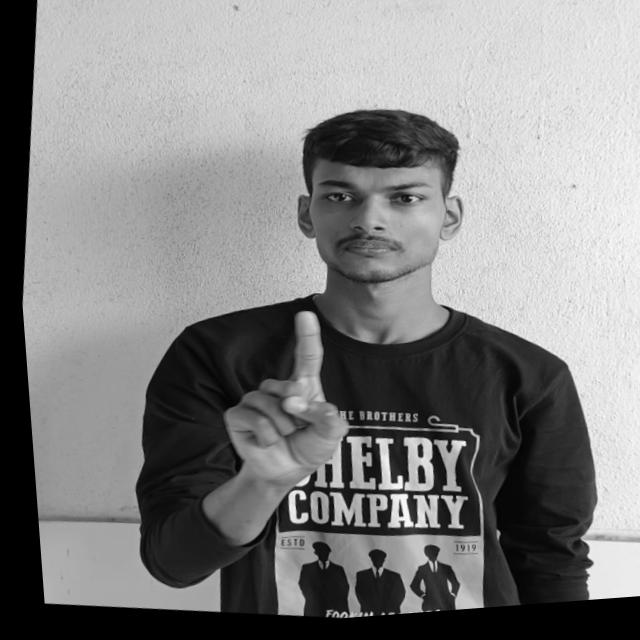Question: (201, 300, 361, 496)
